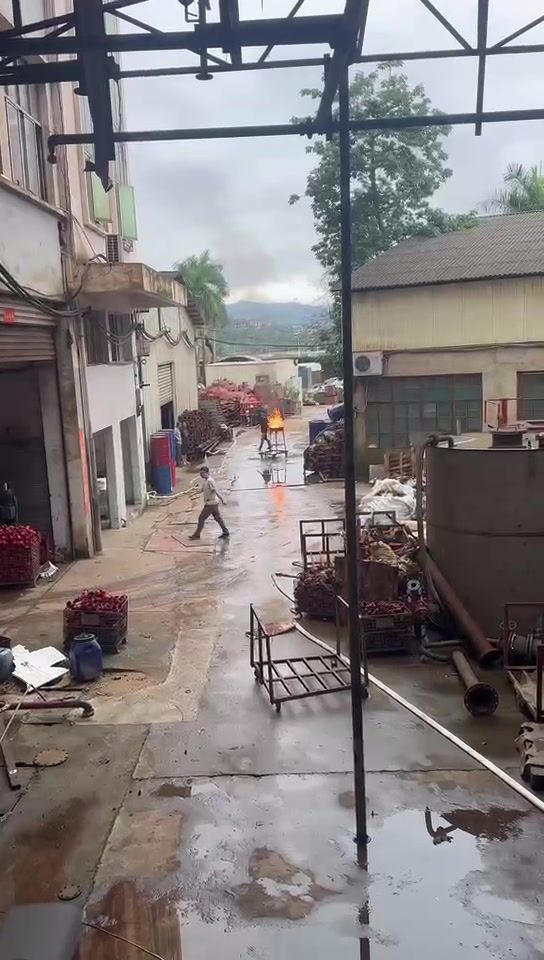fire: (267, 407, 283, 428)
